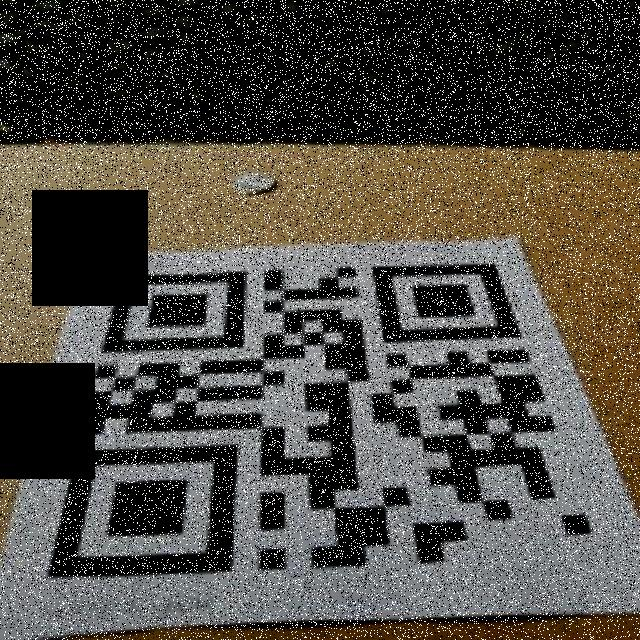QR_CODE: (33, 248, 612, 608)
